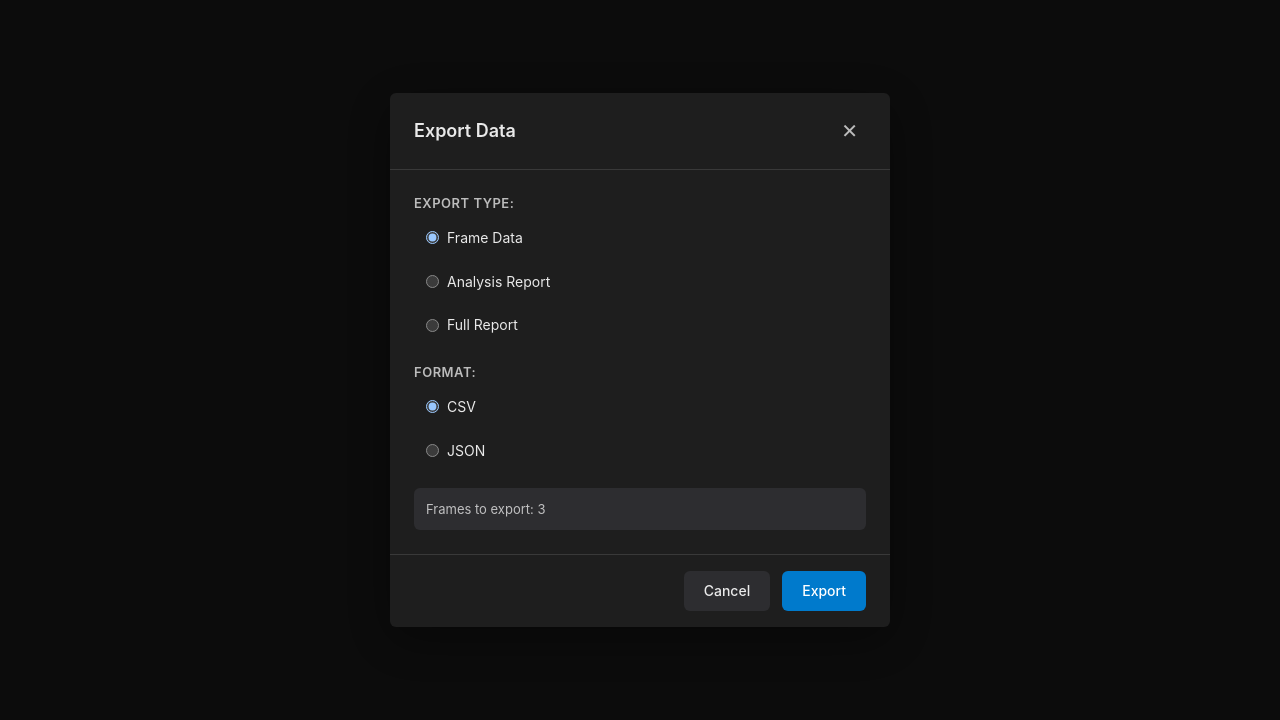
Test: ExportDialog › shows export status messages
Click the button "Export" at (824, 591), box [782, 572, 866, 611]
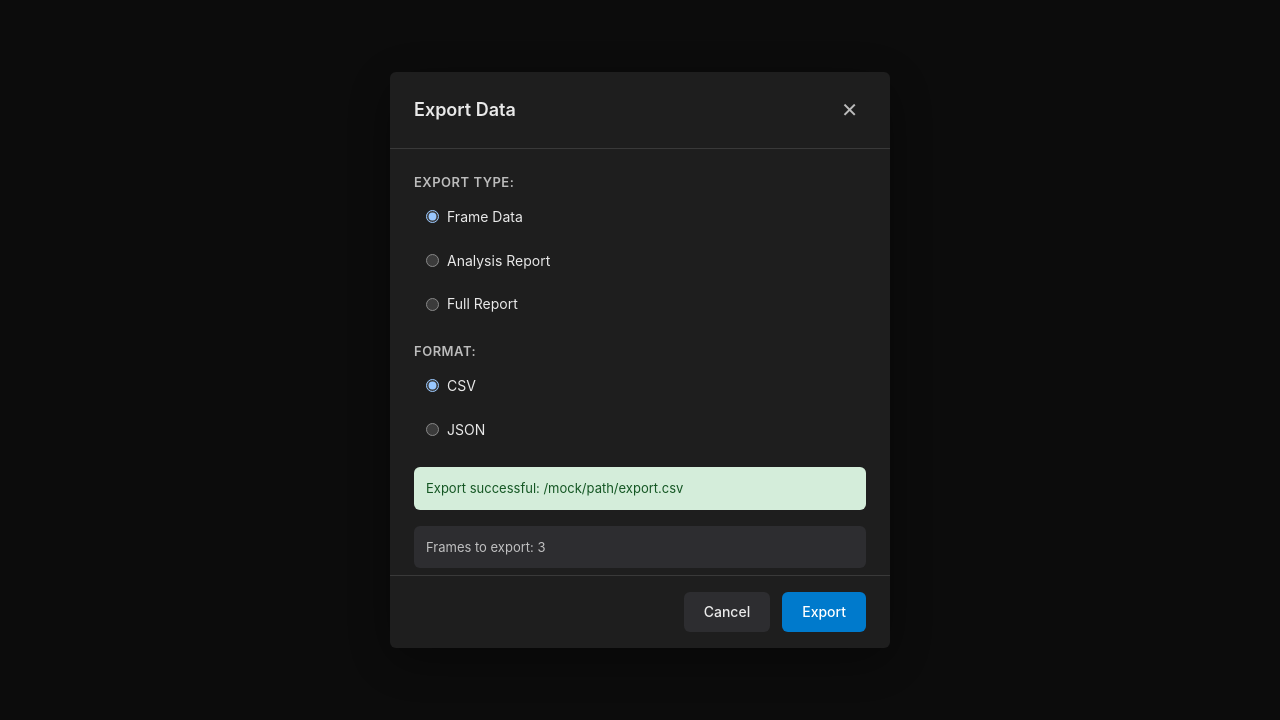
Expected: the text "Export successful: /mock/path/export.csv" is shown, [414, 467, 866, 510]
